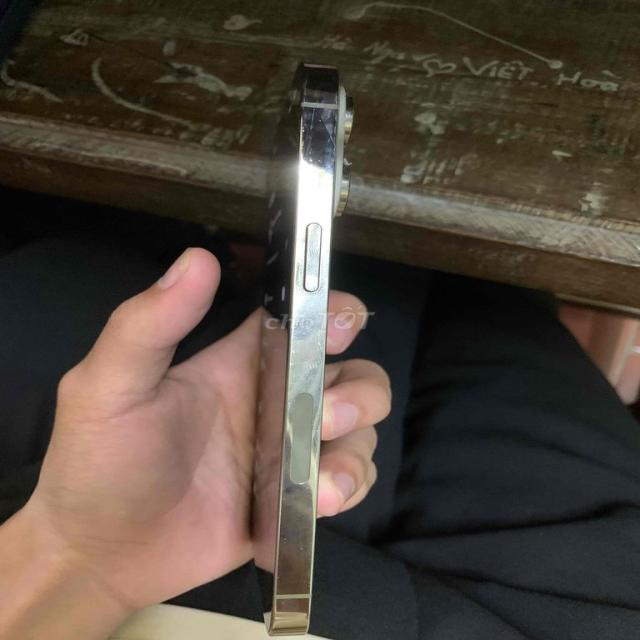scratch: (282, 88, 346, 208), (281, 293, 341, 408)
